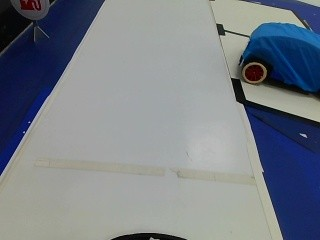battery: (13, 0, 47, 19)
car: (229, 22, 320, 91)
